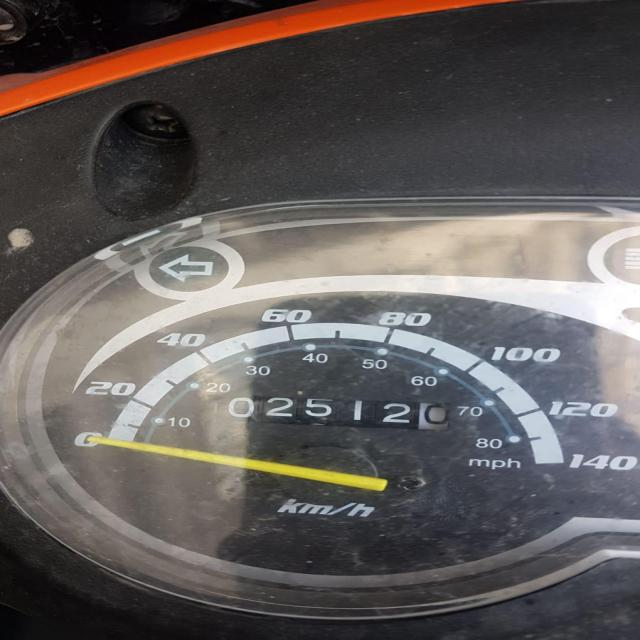odometer: (203, 392, 457, 436)
